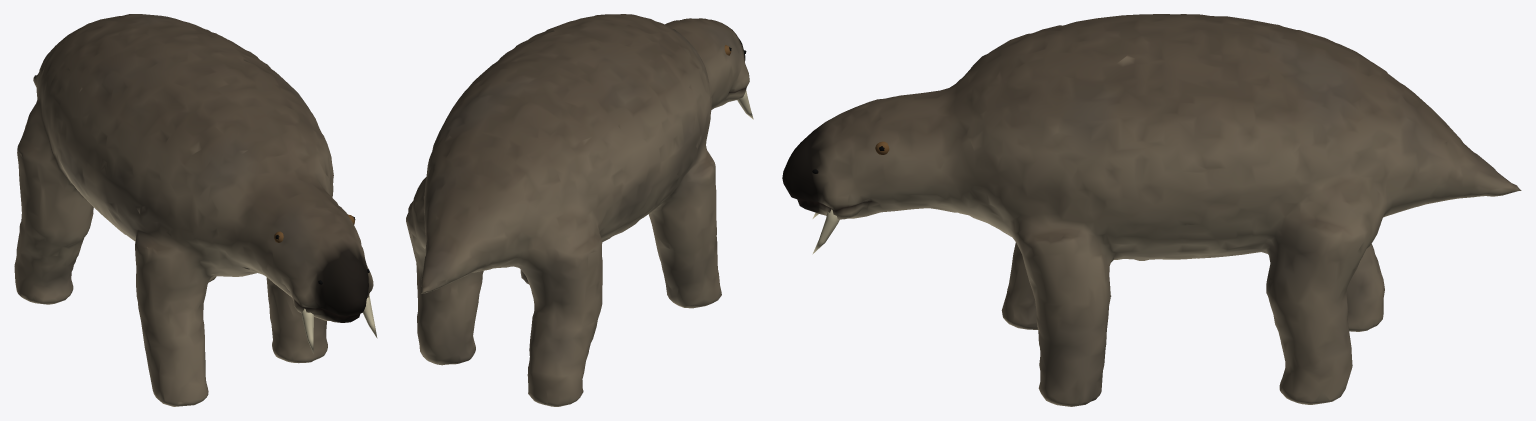
The model's file is Lisowicia.fbx.
3 views of the same model, side by side, from view 1: azimuth 30°, elevation 25°; view 2: azimuth 150°, elevation 25°; view 3: azimuth 270°, elevation 25° (orthographic). The views are drawn at different scales.
Visible parts, largest first — view 1: Lisowicia; view 2: Lisowicia; view 3: Lisowicia.
Boxes of the visible parts, <box> form: Lisowicia: <box>14,14,377,406</box>; Lisowicia: <box>406,14,753,406</box>; Lisowicia: <box>782,14,1521,406</box>.
Bounding box in the file's own units: 0.5744 × 0.8292 × 1.66.
